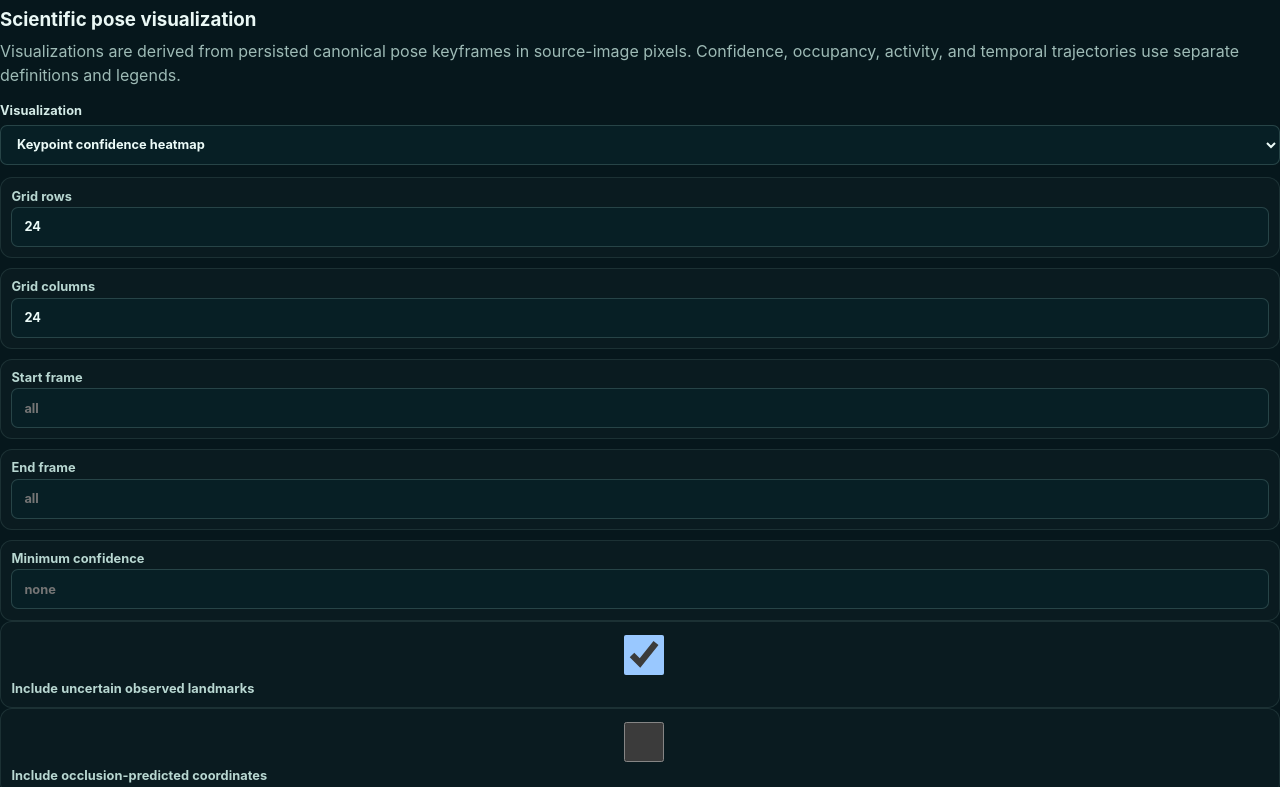
Test: PoseVisualizationPanel › generates canonical confidence heatmaps with explicit filters and provenance
The image size is (1280, 787).
Replace the text in the number field named "Pose visualization grid rows" with "12" at [640, 227], box [11,207,1269,247]
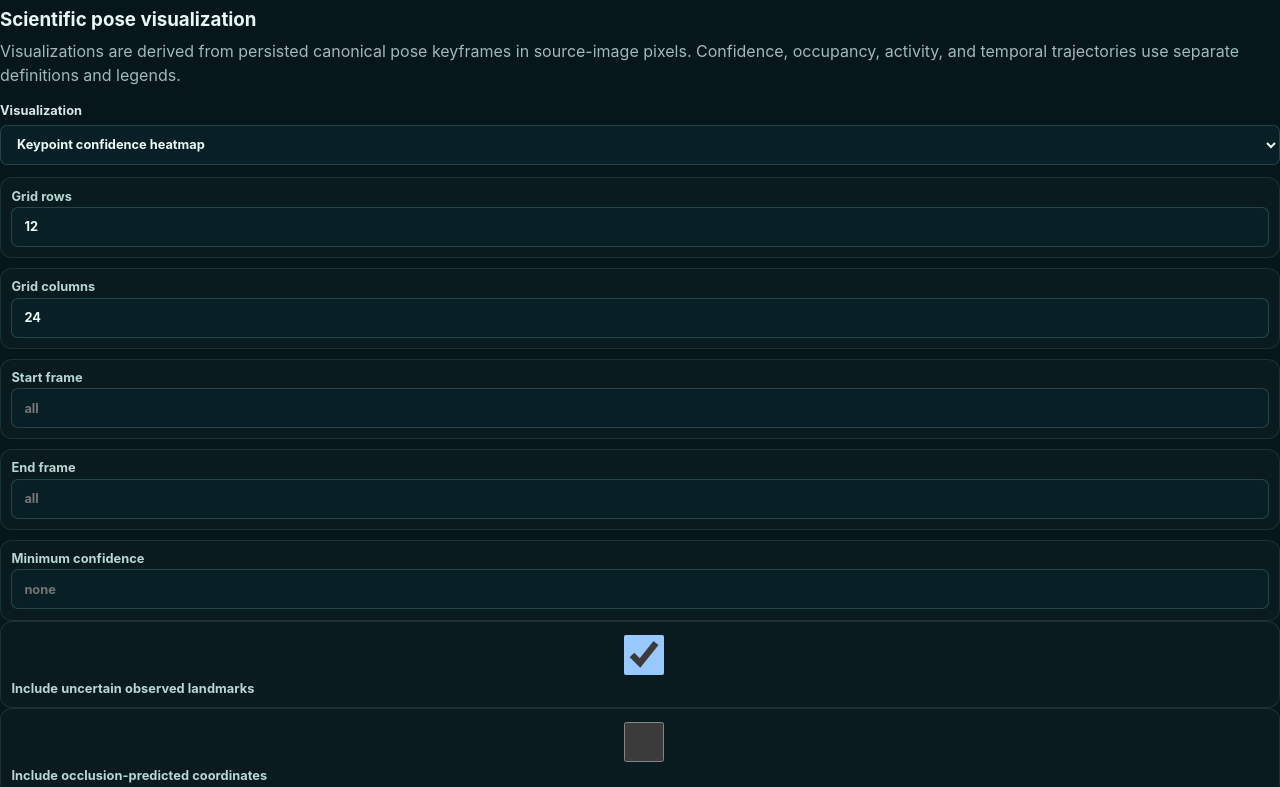
Replace the text in the number field named "Pose visualization grid columns" with "16" at [640, 318], box [11,298,1269,338]
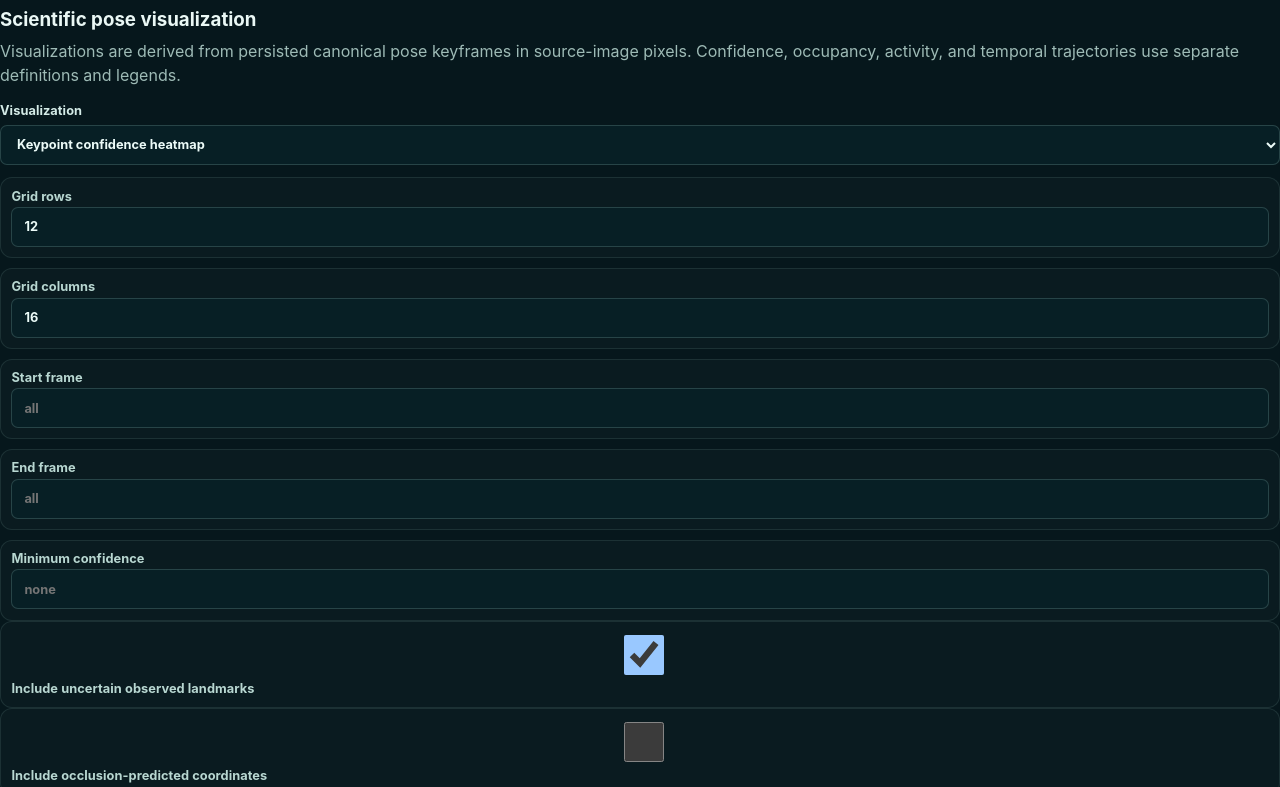
Type "0.4" into the number field named "Pose visualization minimum confidence" at [640, 589], box [11,569,1269,609]
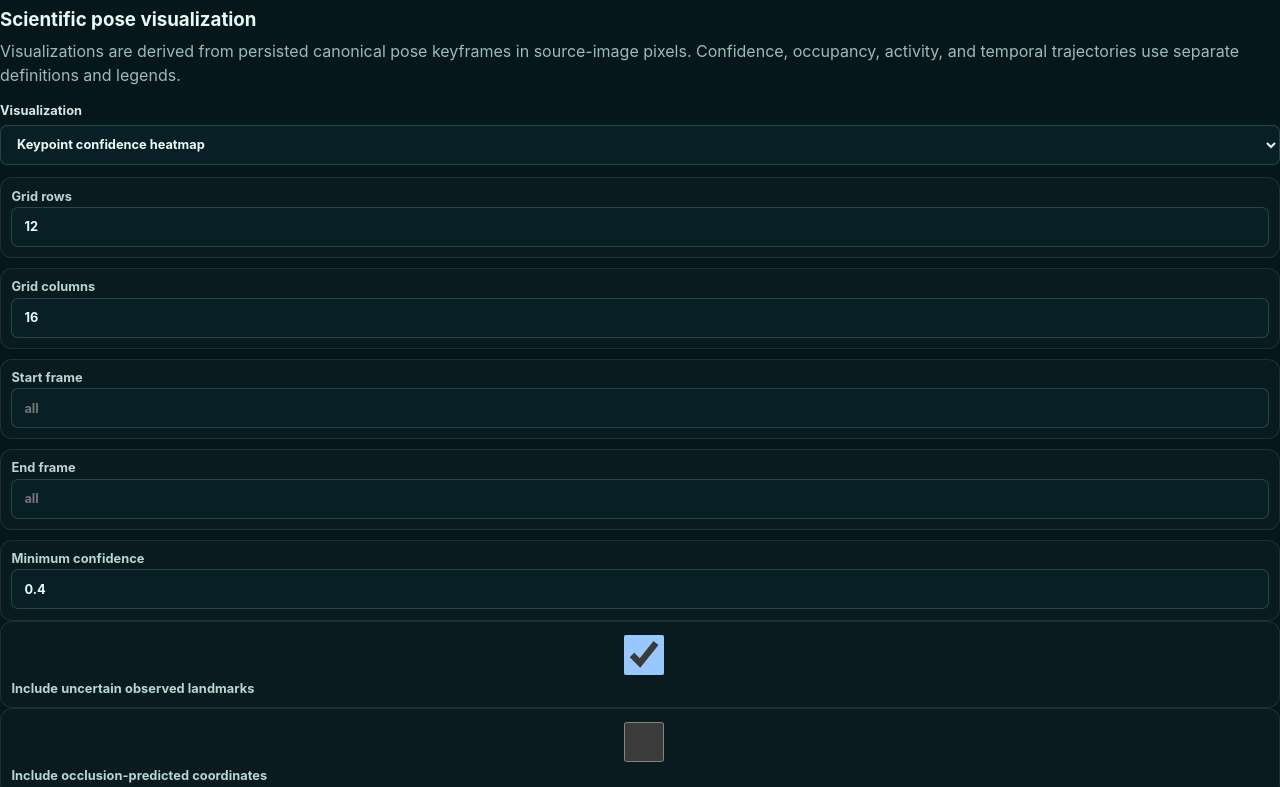
Click the checkbox labelled "Include occlusion-predicted coordinates" at [644, 742], box [15,722,1273,762]
(page scrolled)
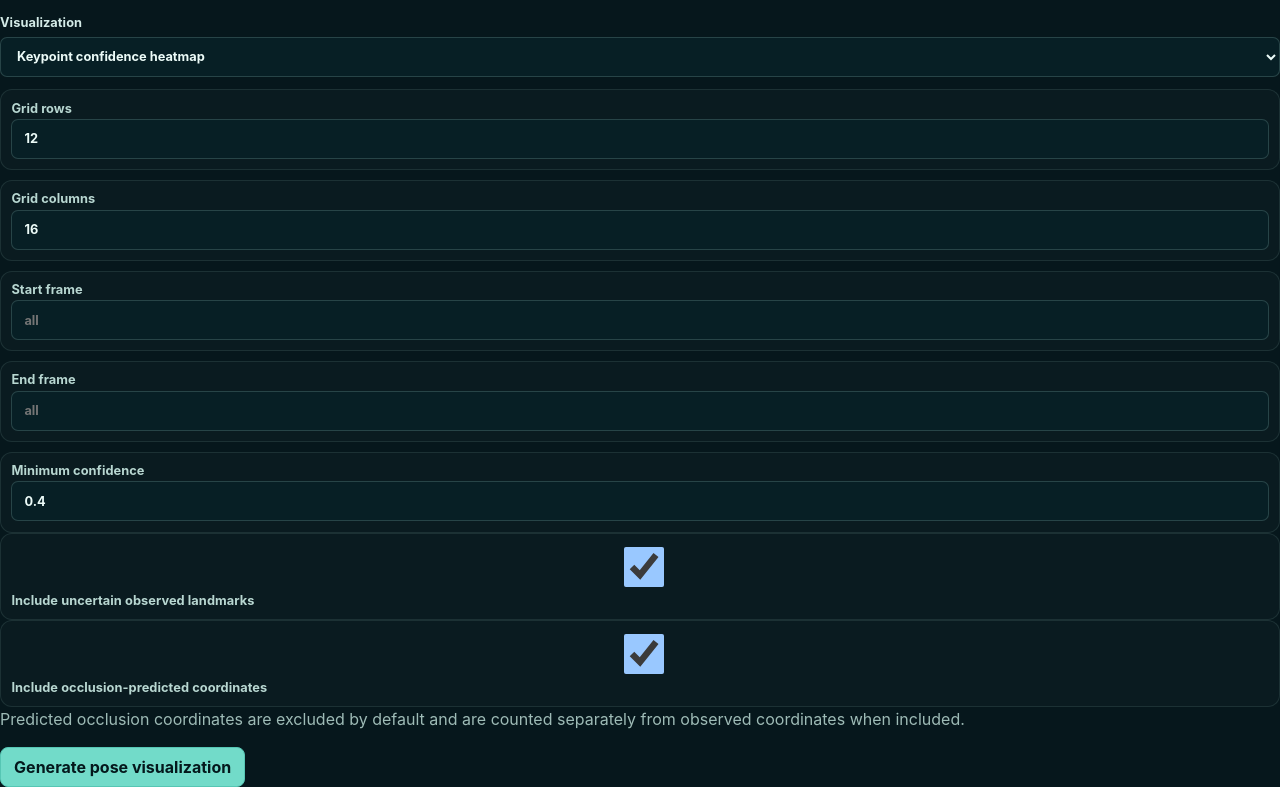
Click the button "Generate pose visualization" at [123, 767], box [0,746,245,786]
(page scrolled)
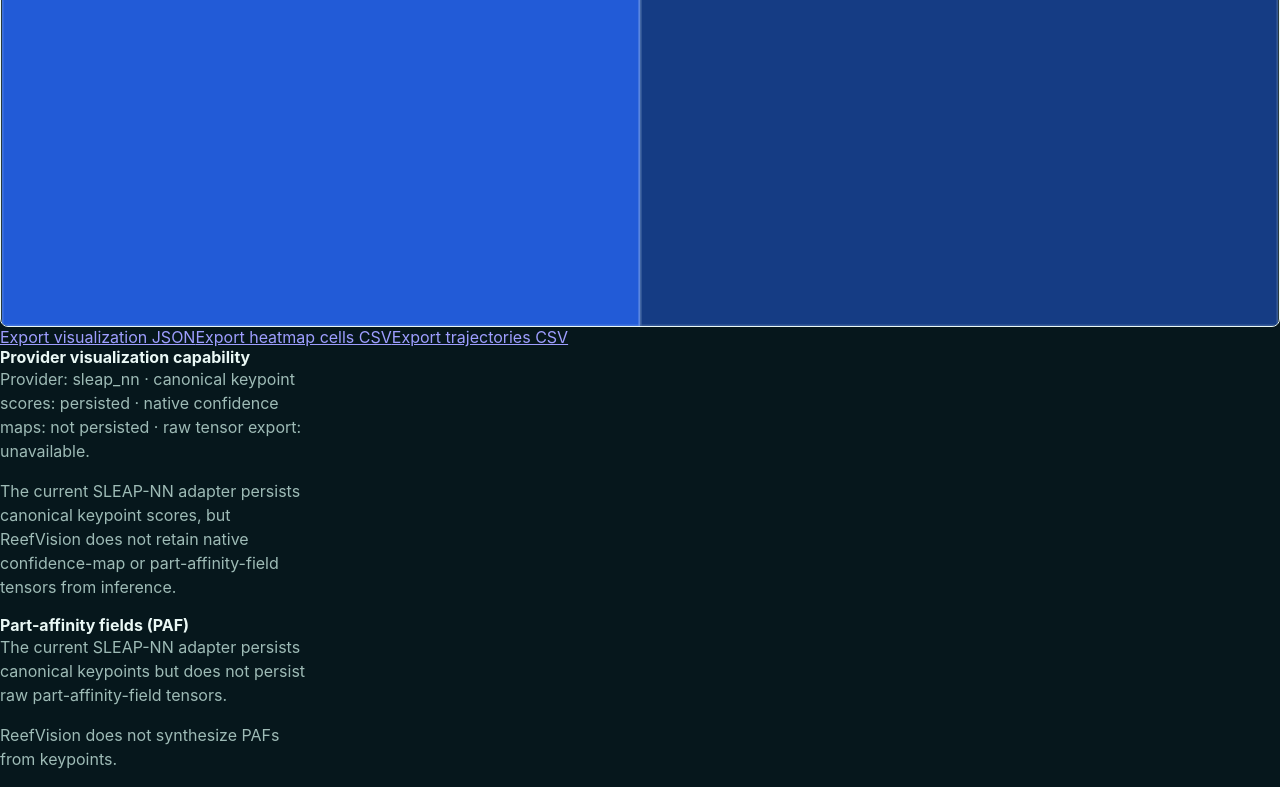
Expected: the text "ReefVision does not synthesize PAFs from keypoints." is shown, [0,723,312,771]
Expected: the text "canonical keypoint scores:" shows "persisted", [60,393,130,413]
Expected: the text "native confidence maps:" shows "not persisted", [50,417,149,437]
